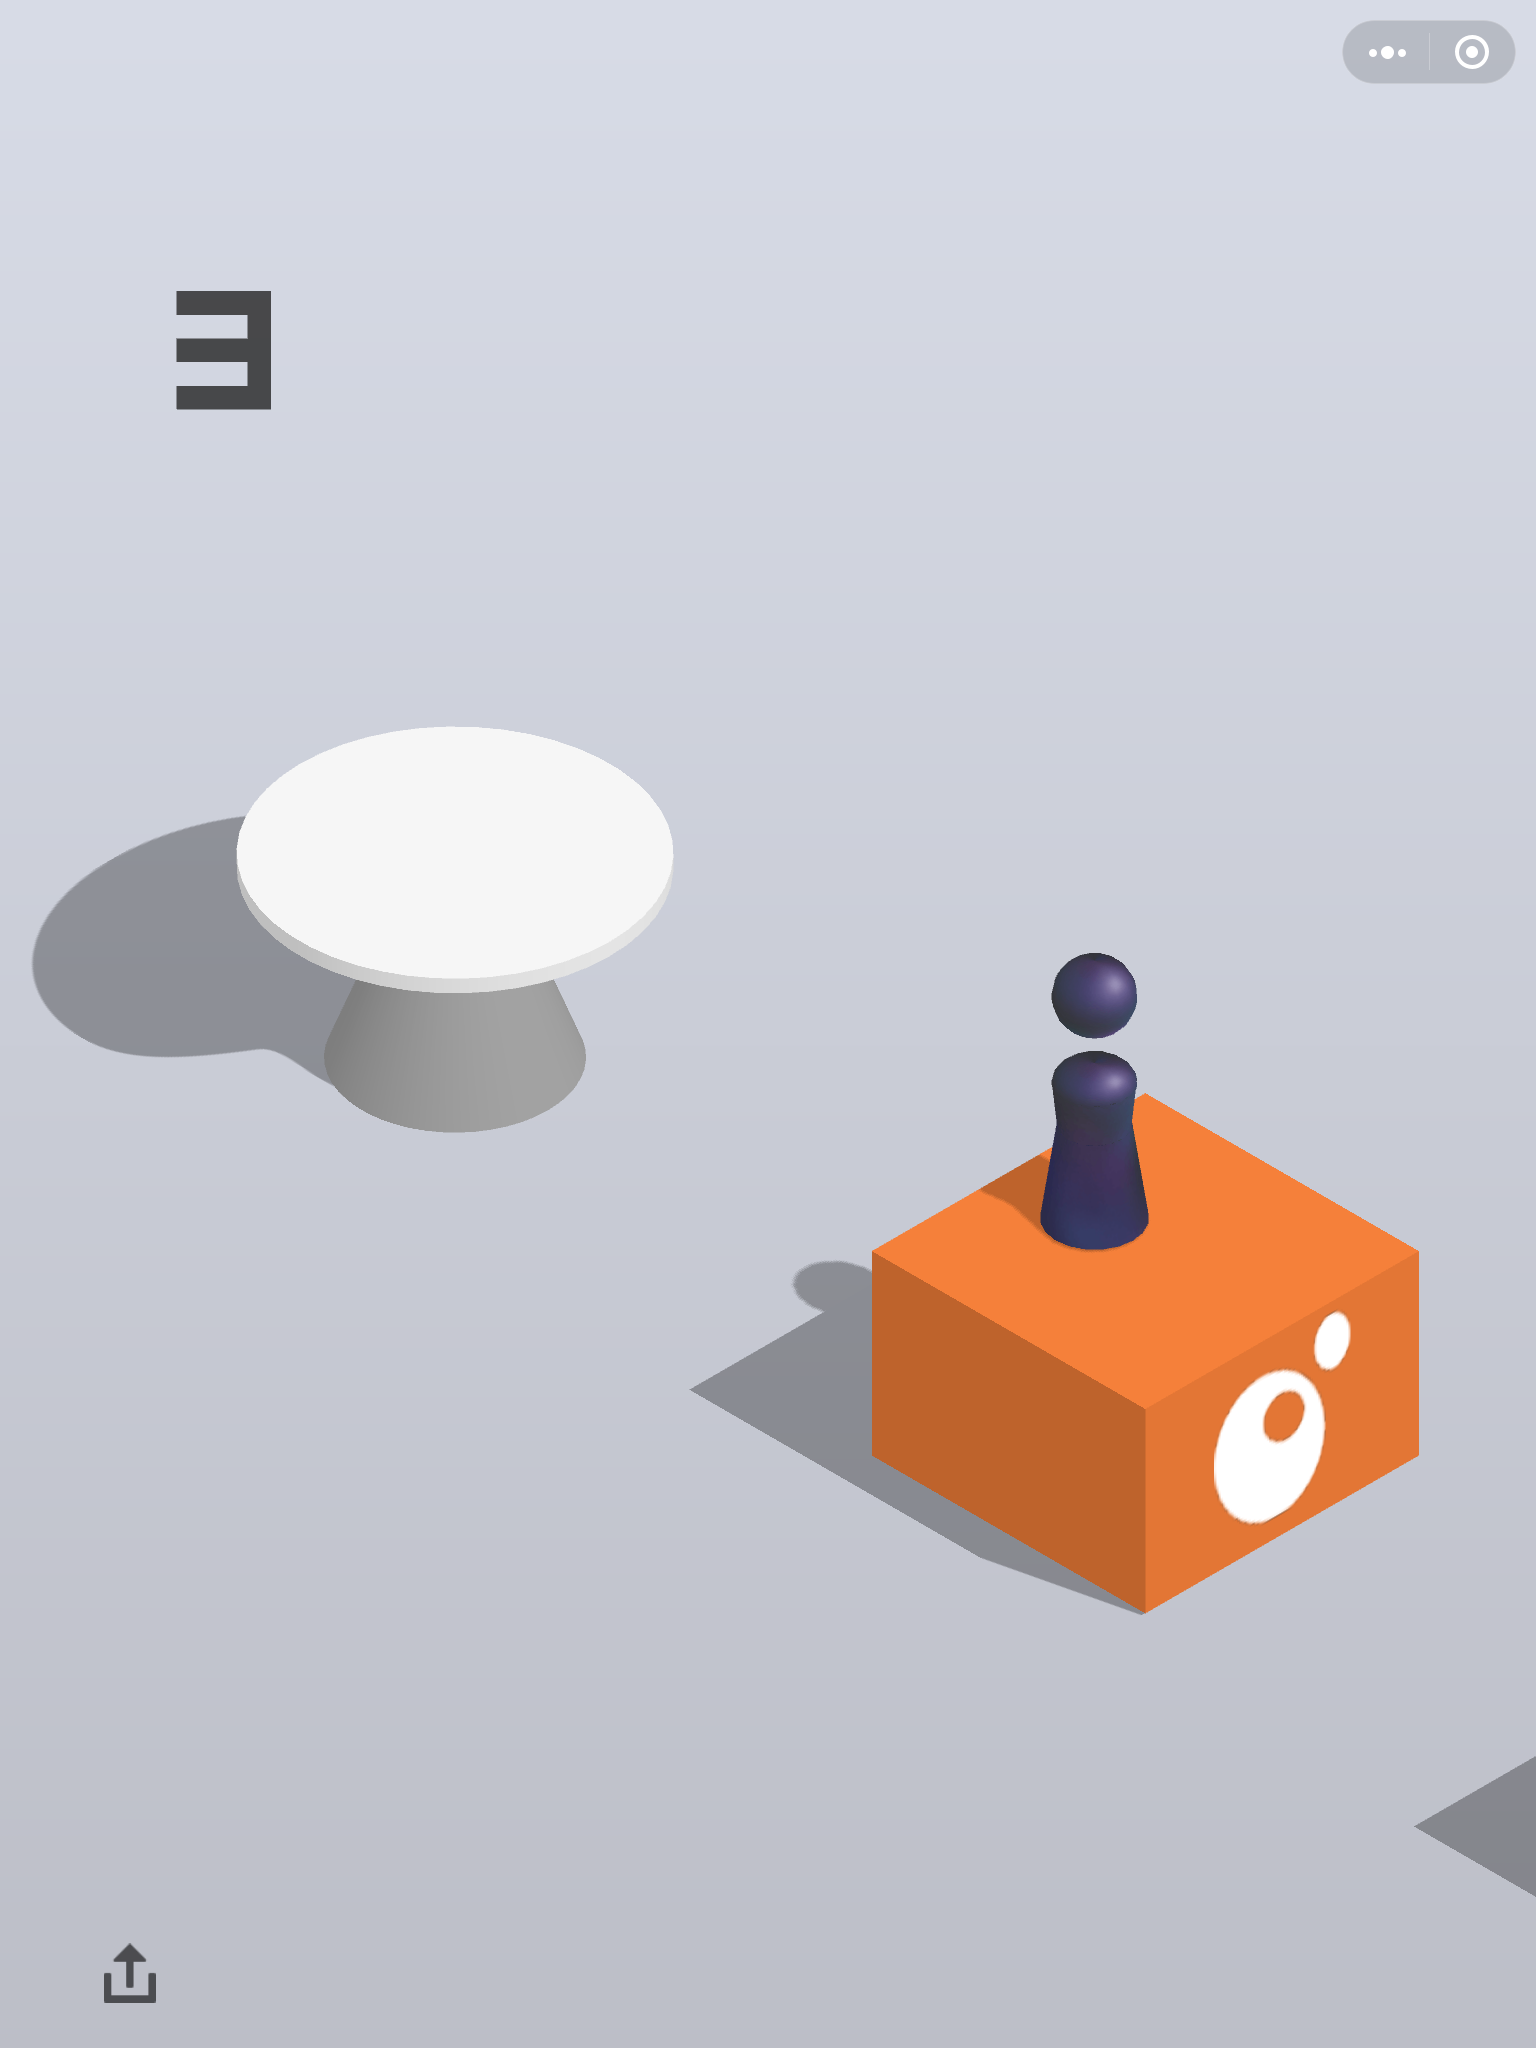c: (227, 718, 679, 1142)
f: (865, 1092, 1426, 1613)
r: (1034, 939, 1158, 1259)
